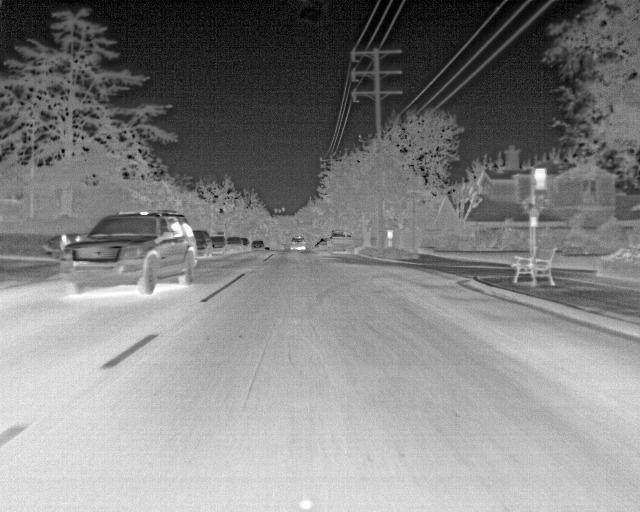car: (65, 204, 200, 308), (180, 206, 225, 268), (317, 225, 355, 258), (278, 232, 311, 260), (212, 216, 231, 260), (223, 229, 245, 254), (244, 222, 261, 251)
chair: (500, 243, 565, 297)
